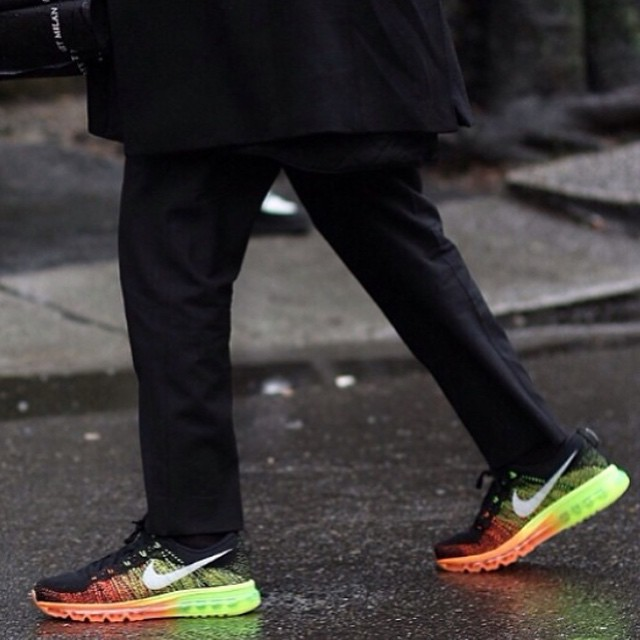sneaker: (426, 407, 640, 584), (22, 503, 275, 627)
